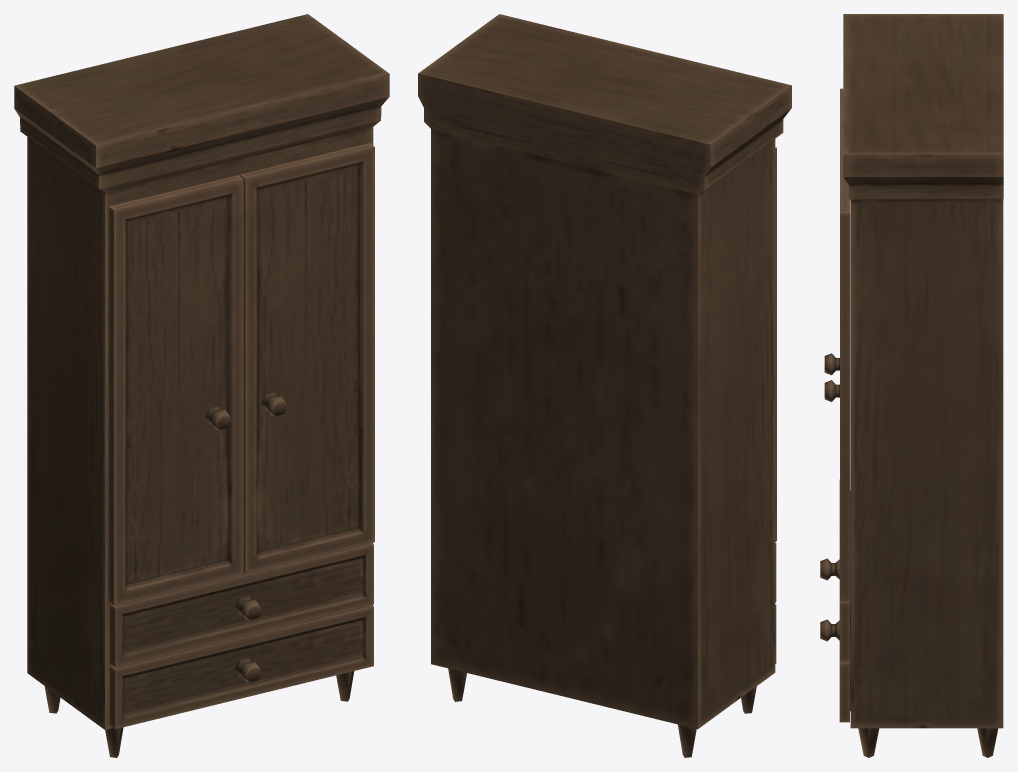
Rendered from Wardrobe_1.fbx.
3 renders of one model, left to right at view 1: azimuth 30°, elevation 25°; view 2: azimuth 150°, elevation 25°; view 3: azimuth 270°, elevation 25°, orthographic.
Parts seen in each view (by area): view 1: Wardrobe_1, Door_R, Door_L, P_2, P_1; view 2: Wardrobe_1, Door_R; view 3: Wardrobe_1, Door_L, P_1, P_2, Door_R.
Part boxes in pixels (box(x1,y1,x2,y2)): Wardrobe_1: box(14, 14, 389, 757); Door_R: box(108, 175, 243, 605); Door_L: box(240, 143, 374, 573); P_2: box(110, 605, 373, 729); P_1: box(110, 543, 373, 666); Wardrobe_1: box(418, 14, 791, 757); Door_R: box(775, 147, 776, 541); Wardrobe_1: box(843, 14, 1003, 757); Door_L: box(824, 151, 850, 601); P_1: box(820, 479, 850, 661); P_2: box(820, 619, 850, 722); Door_R: box(824, 88, 843, 375).
Size of the model in its own units: 152 by 311 by 83.95.
